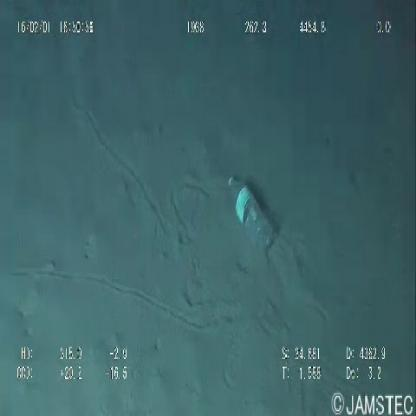Rác: (218, 165, 292, 259)
